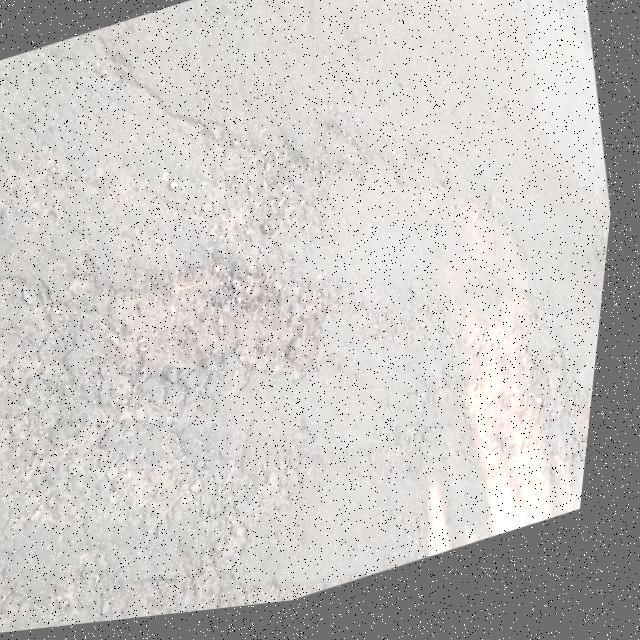pothole: (81, 195, 368, 460)
